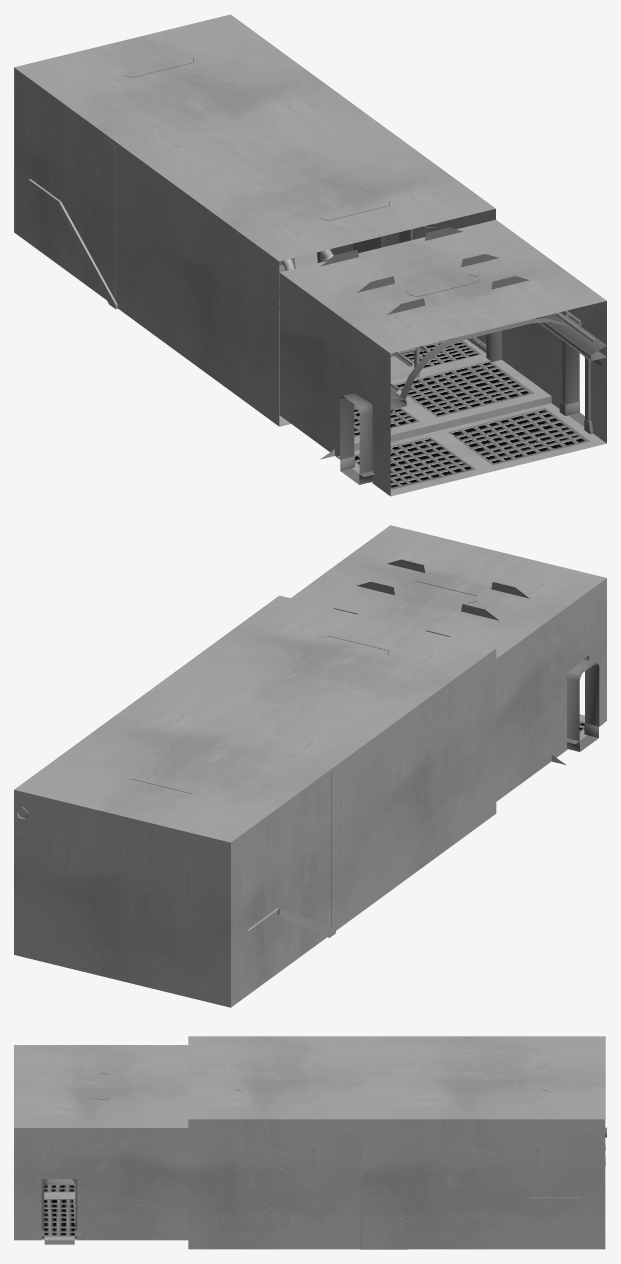
File: MSH_Fusion_reactor_room_L2_R1_optimized.fbx
The picture shows the model from 3 angles, top to bottom: view 1: azimuth 30°, elevation 25°; view 2: azimuth 150°, elevation 25°; view 3: azimuth 270°, elevation 25°; orthographic projection. The views are drawn at different scales.
Visible parts, largest first — view 1: lightmap1, lightmap-1; view 2: lightmap1, lightmap-1; view 3: lightmap1, lightmap-1.
Boxes of the visible parts, box(x1,y1,x2,y2) form: lightmap1: box(14, 14, 606, 496); lightmap-1: box(340, 343, 584, 484); lightmap1: box(14, 525, 606, 1007); lightmap-1: box(567, 659, 599, 751); lightmap1: box(14, 1036, 606, 1249); lightmap-1: box(44, 1179, 75, 1244).
Bounding box in the file's own units: 10.47 × 6.88 × 28.07.
